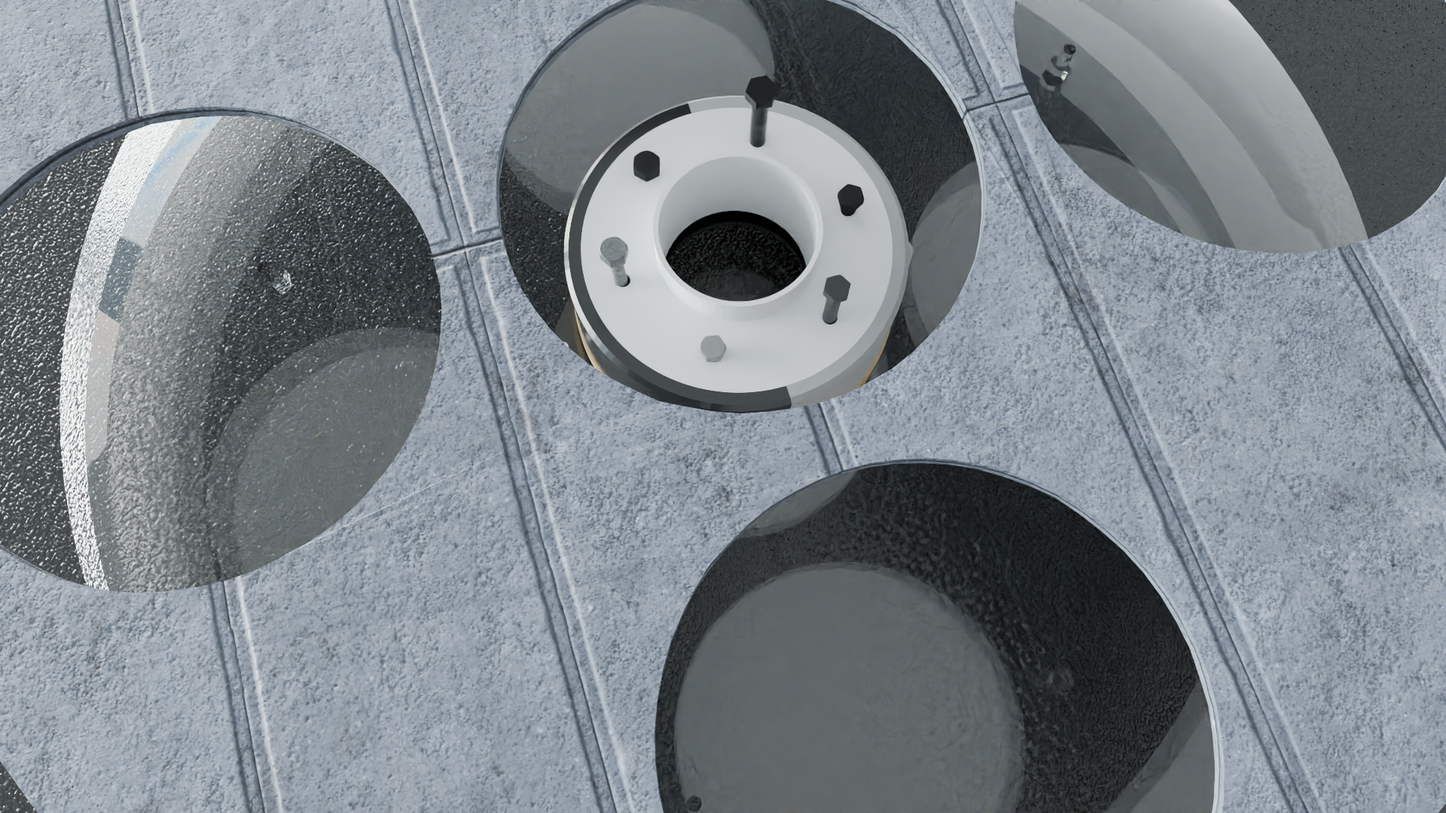bolt: (746, 76, 778, 103), (599, 236, 627, 263), (633, 151, 660, 177), (824, 275, 851, 300), (698, 335, 726, 359), (838, 184, 865, 208)
